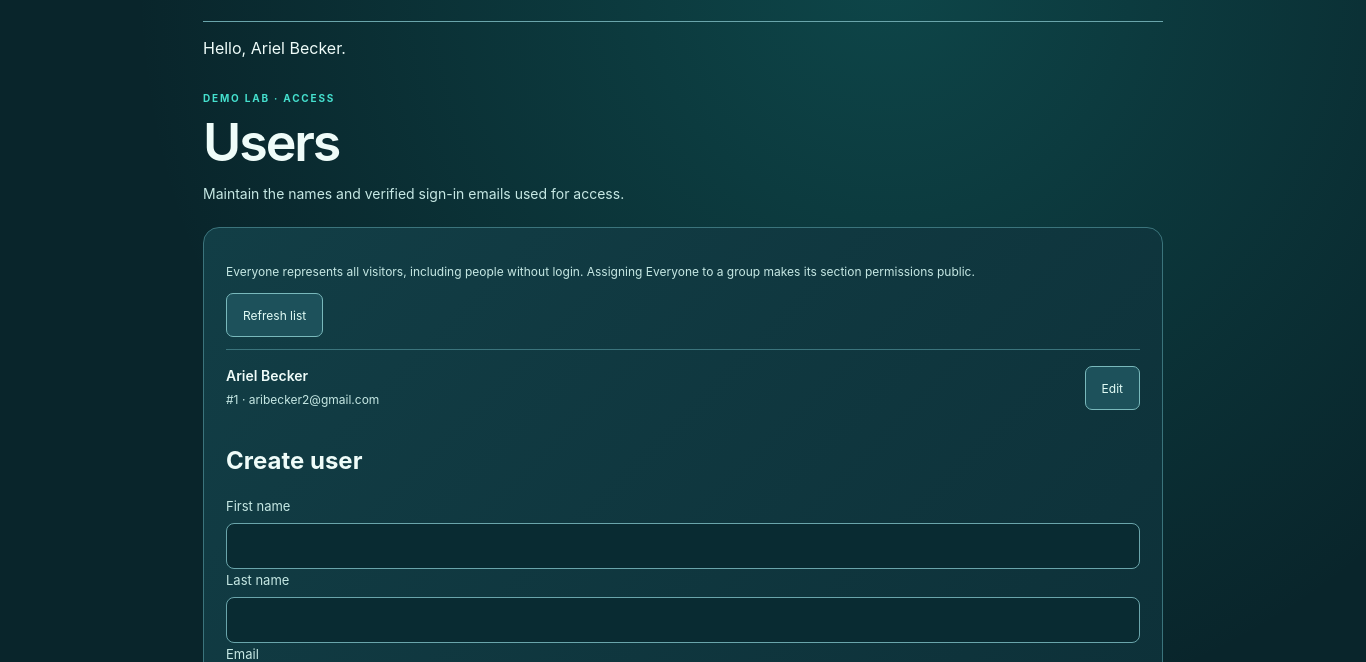
Scenario: a named user administrator can create edit and delete a user
expect the text "Ariel Becker" is shown: met, box [226,367,308,384]
In the field labelled "First name": (683, 546) [226,523,1140,569], type "Jane"
In the field labelled "Last name": (683, 620) [226,597,1140,643], type "Doe"
(page scrolled)
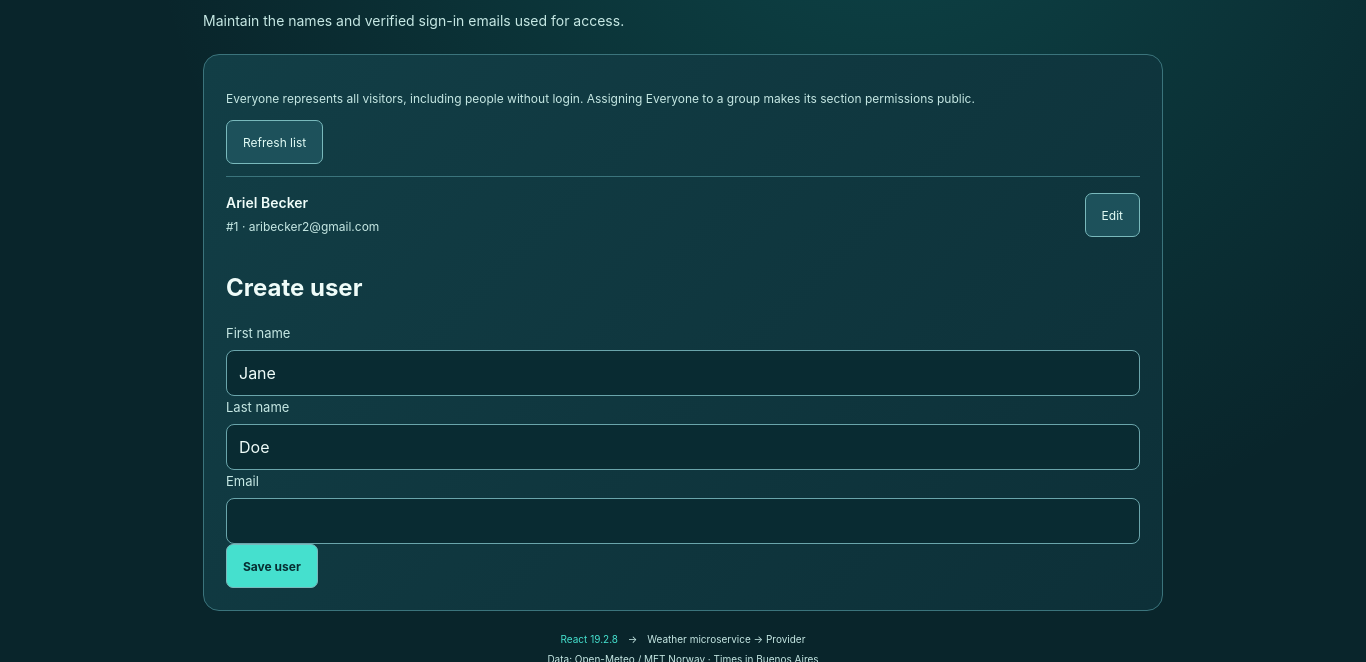
In the field labelled "Email": (683, 521) [226,498,1140,544], type "jane@example.test"
Click the button "Save user": (272, 566) [226,544,318,588]
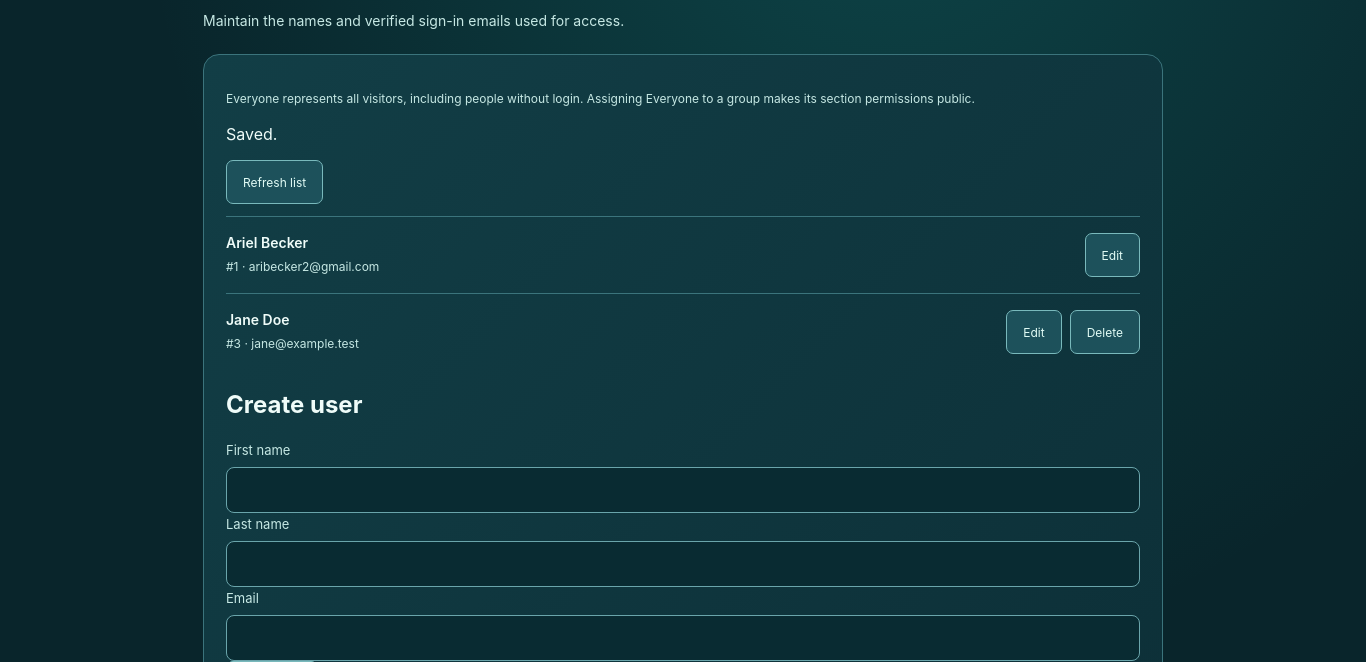
expect the text "Jane Doe" is shown: met, box [226,311,289,328]
Click the button with aria-label "Edit Jane Doe": (1034, 332) [1006,310,1062,354]
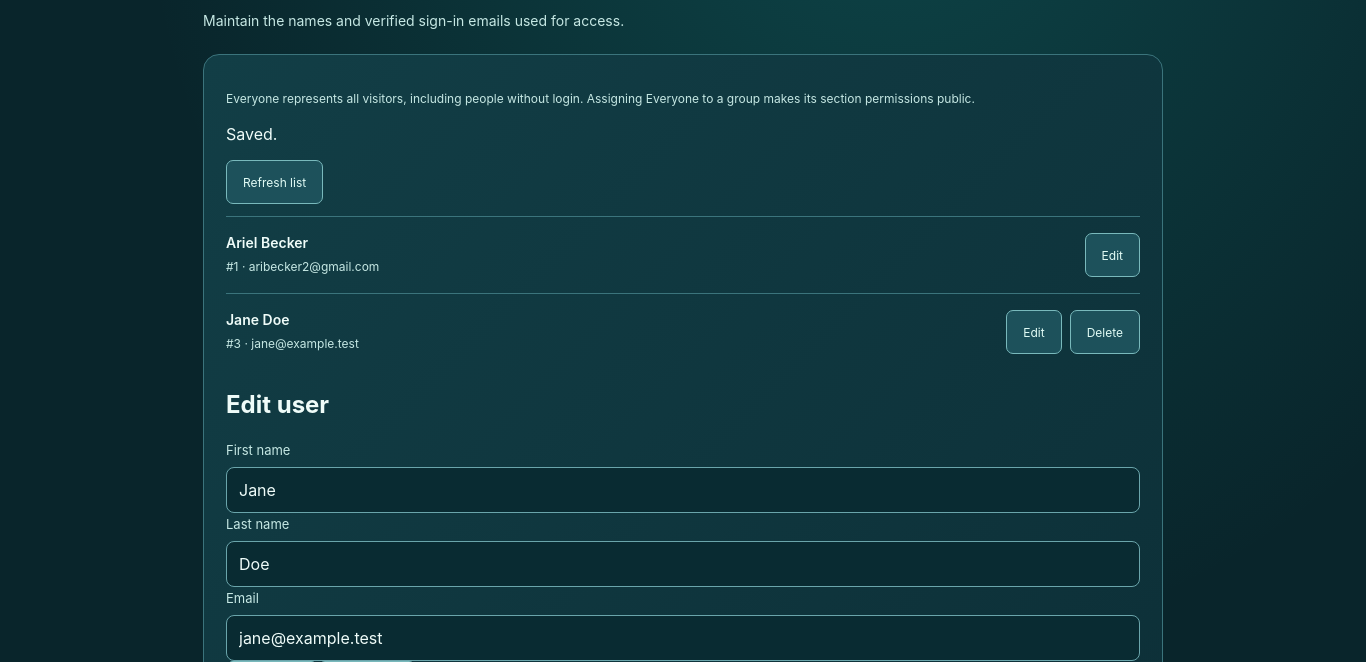
Replace the text in the field labelled "First name" with "Janet": (683, 490) [226,467,1140,513]
(page scrolled)
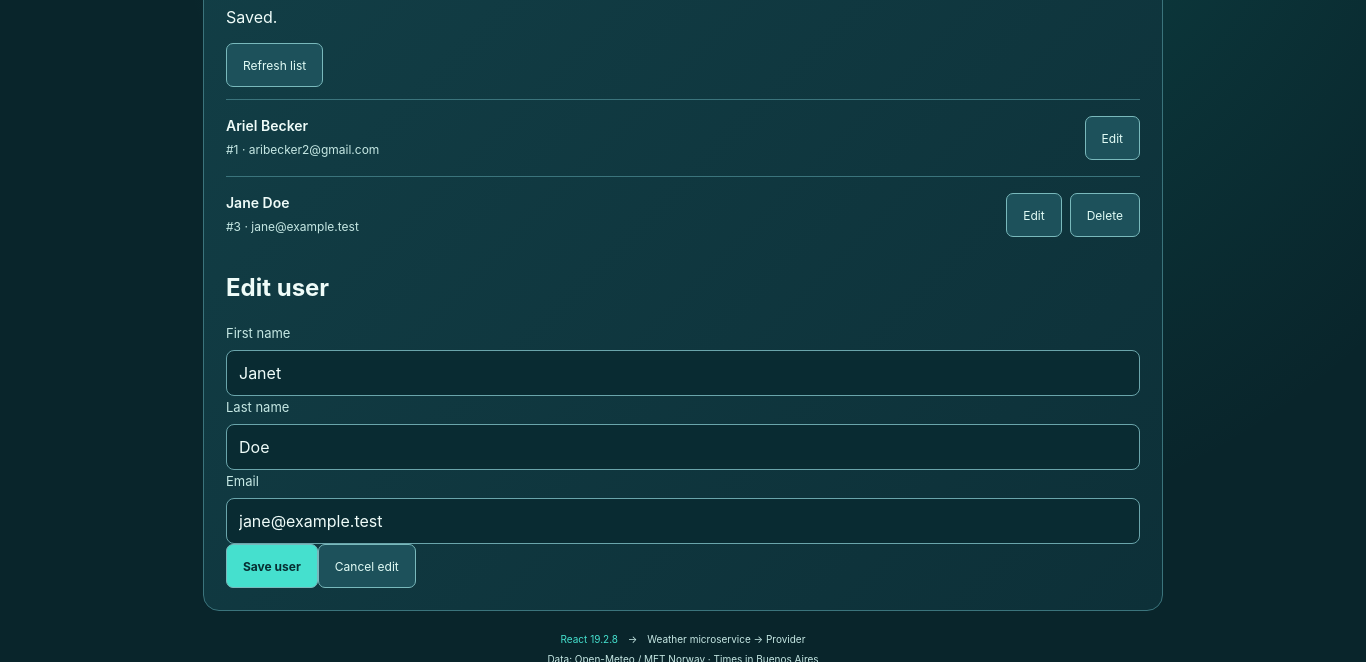
Click the button "Save user": (272, 566) [226,544,318,588]
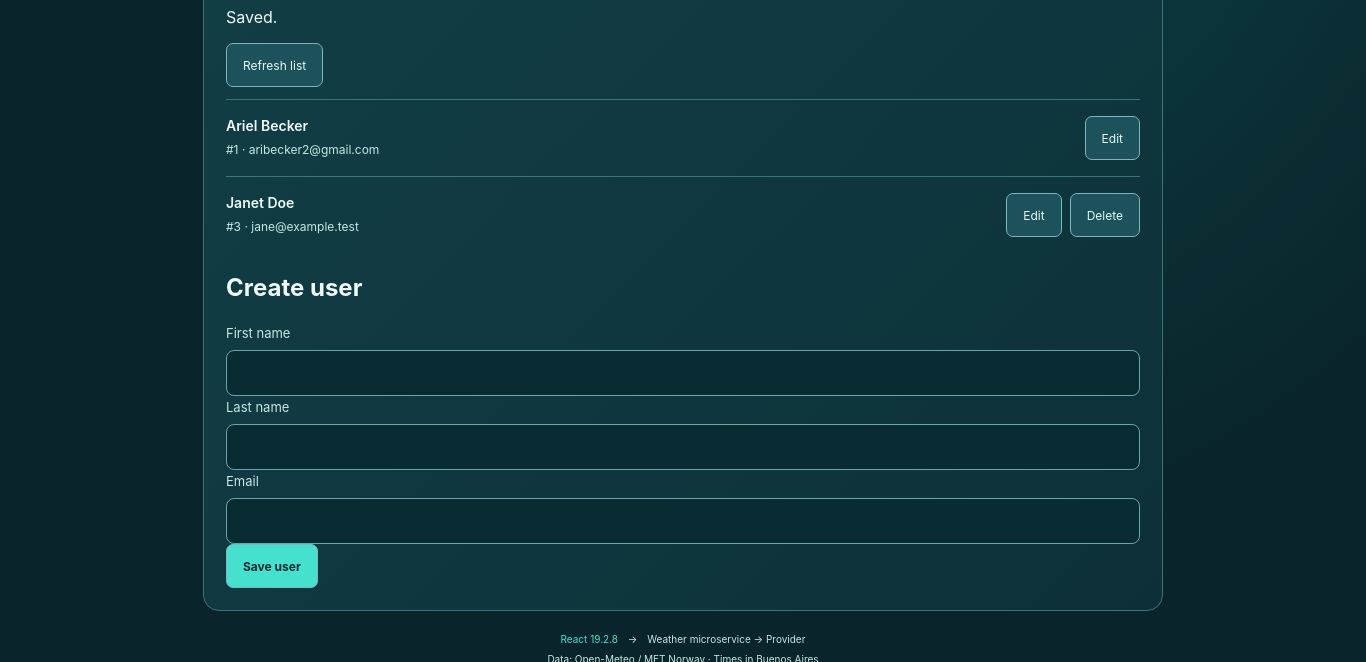
expect the text "Janet Doe" is shown: met, box [226,194,294,211]
Click the button with aria-label "Delete Janet Doe": (1105, 215) [1070,193,1140,237]
(page scrolled)
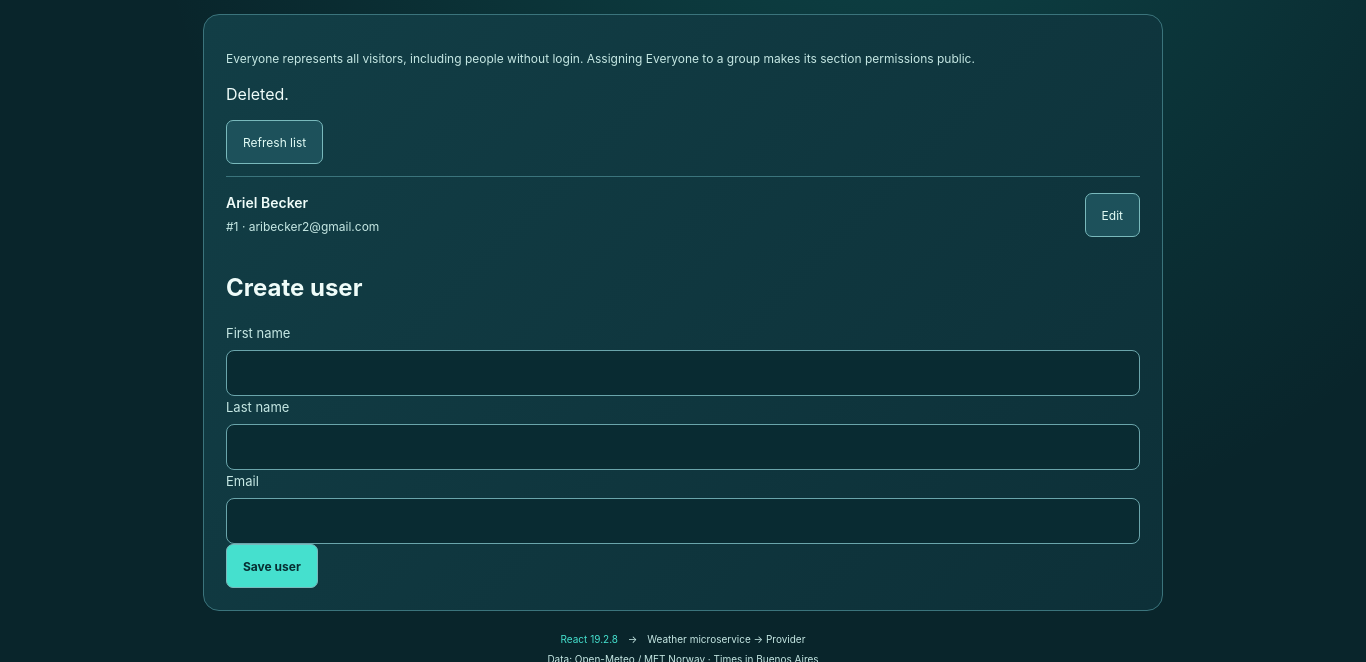
expect the text "Janet Doe" is gone: met
